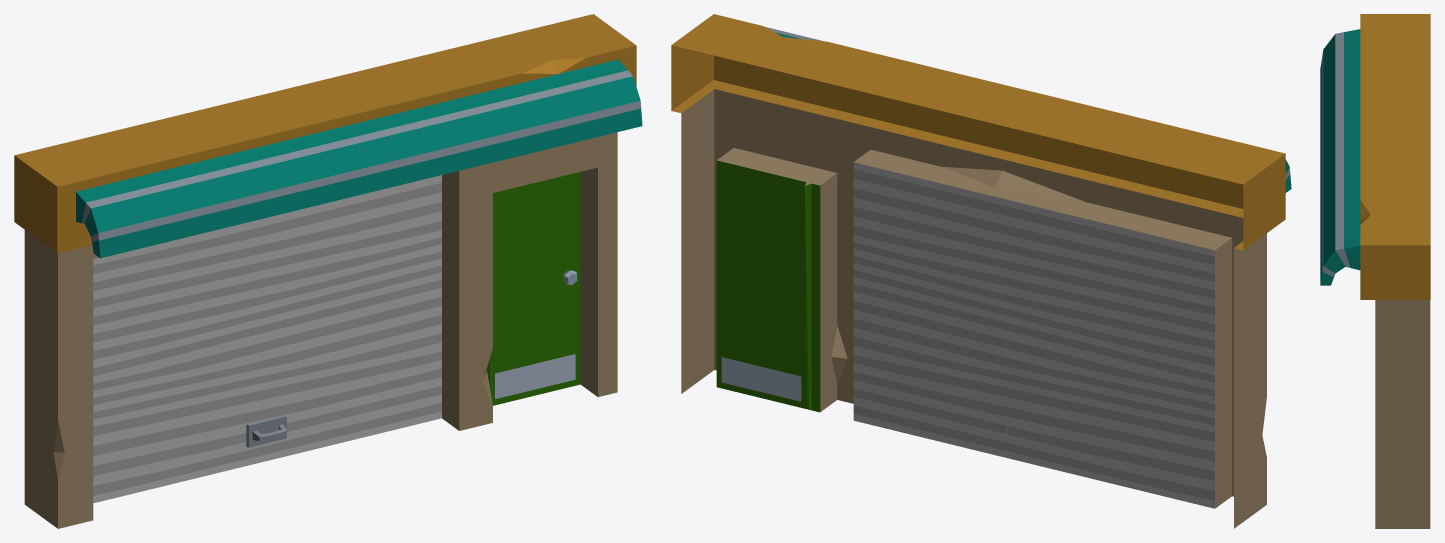
File: House_Front_01_edit.fbx
The picture shows the model from 3 angles, left to right: view 1: azimuth 30°, elevation 25°; view 2: azimuth 150°, elevation 25°; view 3: azimuth 270°, elevation 25°; orthographic projection. The views are drawn at different scales.
Parts seen in each view (by area): view 1: SM_Bld_Shop_06.004; view 2: SM_Bld_Shop_06.004; view 3: SM_Bld_Shop_06.004.
Part boxes in pixels (x1,y1,x2,y2): SM_Bld_Shop_06.004: (14,14,642,528); SM_Bld_Shop_06.004: (671,14,1291,528); SM_Bld_Shop_06.004: (1320,14,1430,528).
Size of the model in its own units: 518 by 300 by 104.
